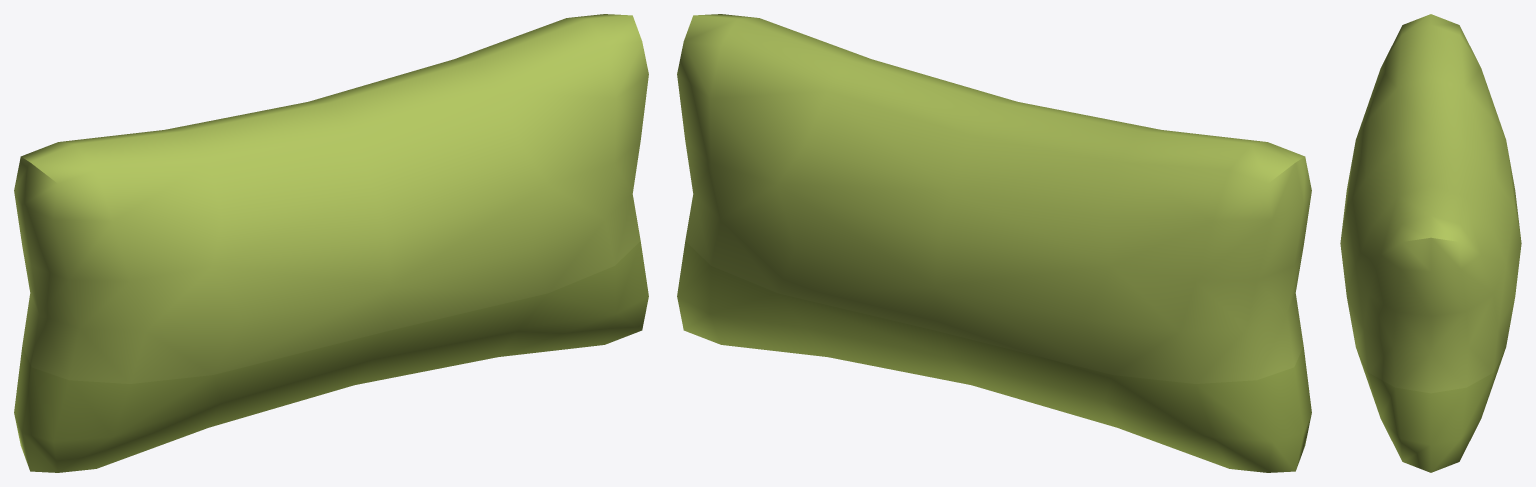
File: itch_tiny_pleasant_picnic_pillow_small_green.glb
The picture shows the model from 3 angles, left to right: view 1: azimuth 30°, elevation 25°; view 2: azimuth 150°, elevation 25°; view 3: azimuth 270°, elevation 25°; orthographic projection. The views are drawn at different scales.
Visible parts, largest first — view 1: pillow_small_green; view 2: pillow_small_green; view 3: pillow_small_green.
Part boxes in pixels (x1,y1,x2,y2): pillow_small_green: [14, 14, 648, 472]; pillow_small_green: [677, 14, 1311, 472]; pillow_small_green: [1340, 14, 1521, 472].
Bounding box in the file's own units: 0.96 × 0.48 × 0.32.
